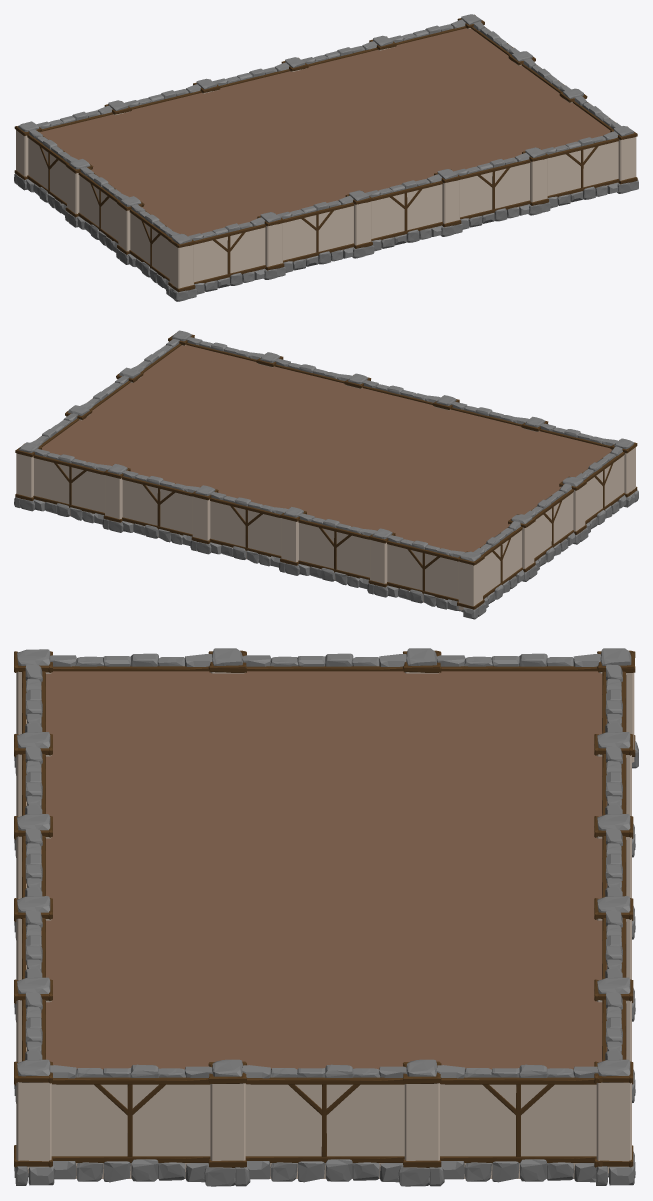
Rendered from SM_platform_01.fbx.
3 views of the same model, one above another, from view 1: azimuth 30°, elevation 25°; view 2: azimuth 150°, elevation 25°; view 3: azimuth 270°, elevation 25° (orthographic). The views are drawn at different scales.
Visible parts, largest first — view 1: Object32349; view 2: Object32349; view 3: Object32349.
Boxes of the visible parts, x1,y1,x2,y2 form: Object32349: [14, 14, 638, 301]; Object32349: [14, 330, 638, 619]; Object32349: [14, 648, 638, 1186].
Size of the model in its own units: 973 by 119 by 597.
